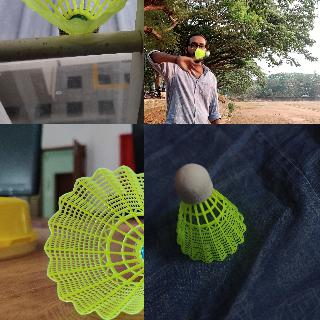shuttlecock: (43, 164, 143, 319), (174, 164, 246, 262), (6, 0, 143, 35), (195, 48, 209, 58)
